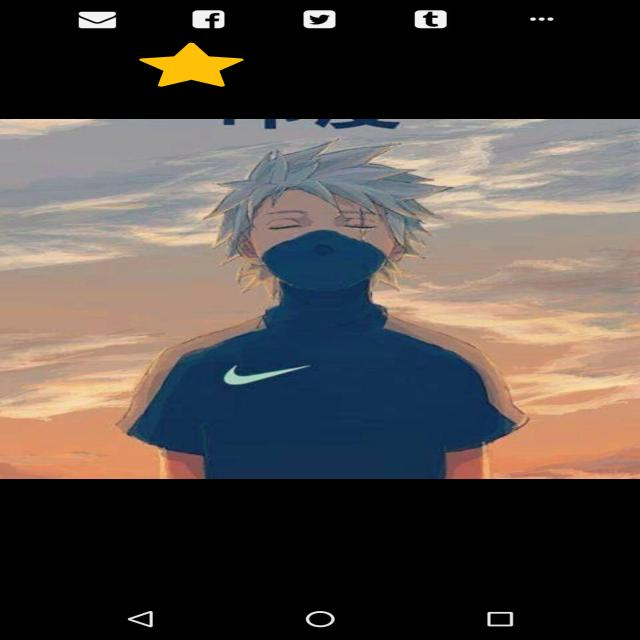forced continuity: (139, 42, 244, 86)
